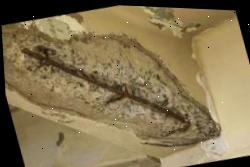exposed_rebar: (21, 47, 186, 122)
spalling: (1, 22, 220, 147)
